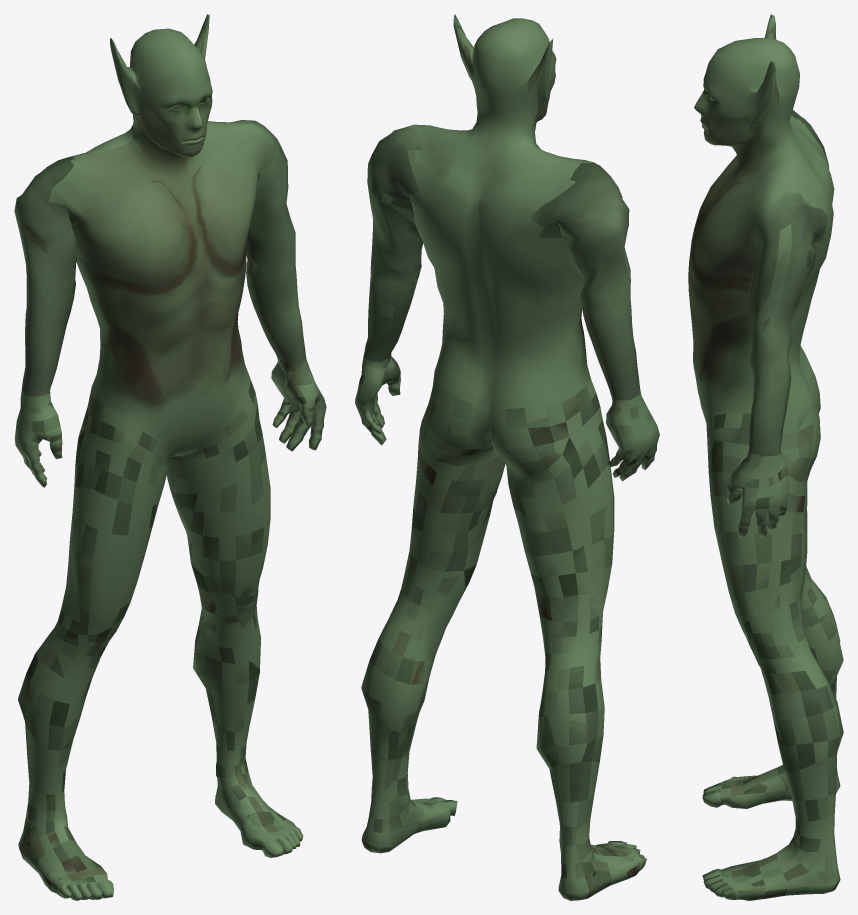
Rendered from Character.fbx.
3 views of the same model, side by side, from view 1: azimuth 30°, elevation 25°; view 2: azimuth 150°, elevation 25°; view 3: azimuth 270°, elevation 25° (orthographic). The views are drawn at different scales.
Visible parts, largest first — view 1: polySurface2; view 2: polySurface2; view 3: polySurface2.
Boxes of the visible parts, x1=… form: polySurface2: x1=14, y1=14, x2=326, y2=900; polySurface2: x1=355, y1=14, x2=659, y2=900; polySurface2: x1=688, y1=14, x2=843, y2=900.
Bounding box in the file's own units: 4.69 × 12.54 × 2.18.
